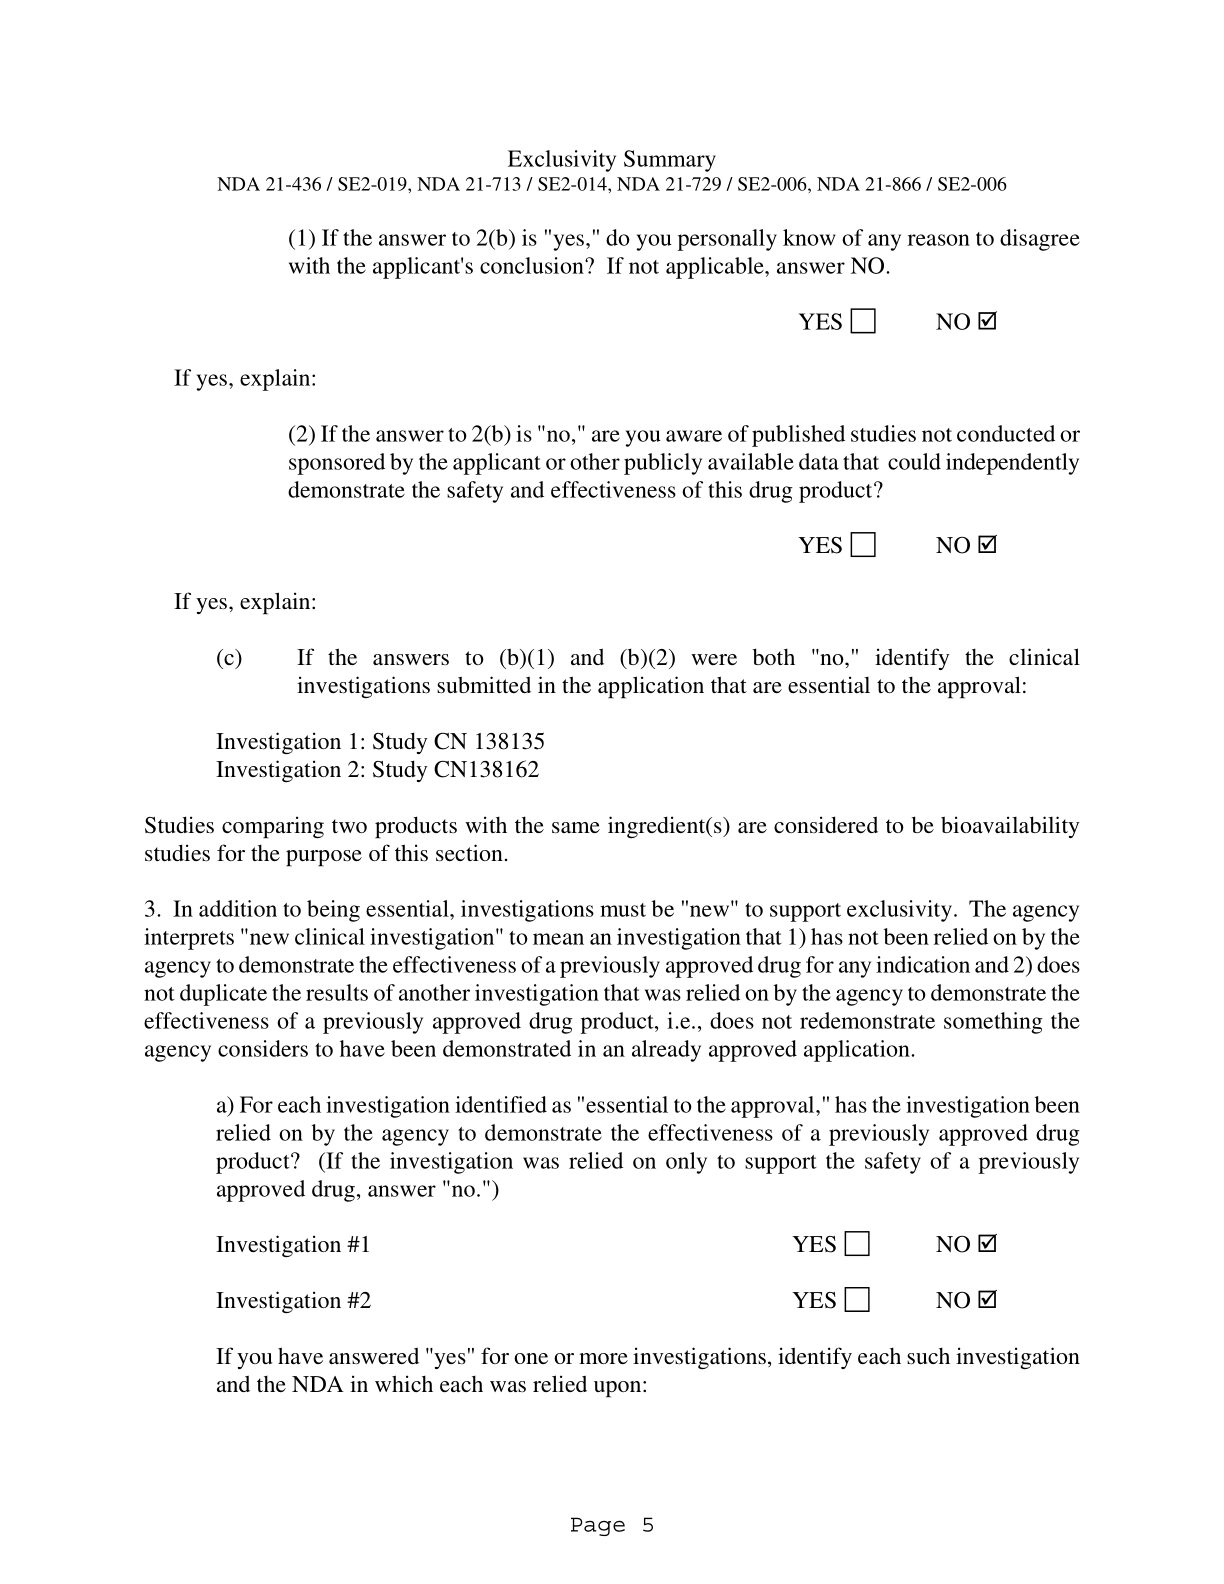nolines: (215, 1227, 998, 1314)
